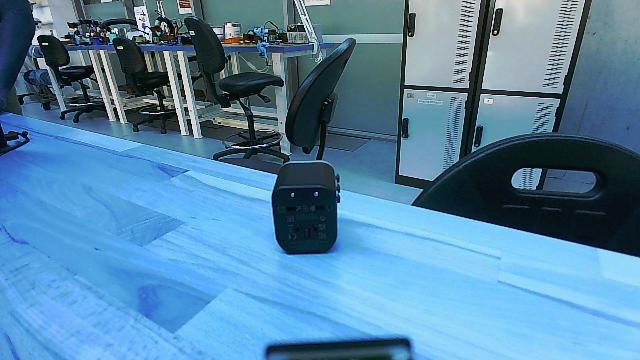adapter: (268, 160, 340, 256)
